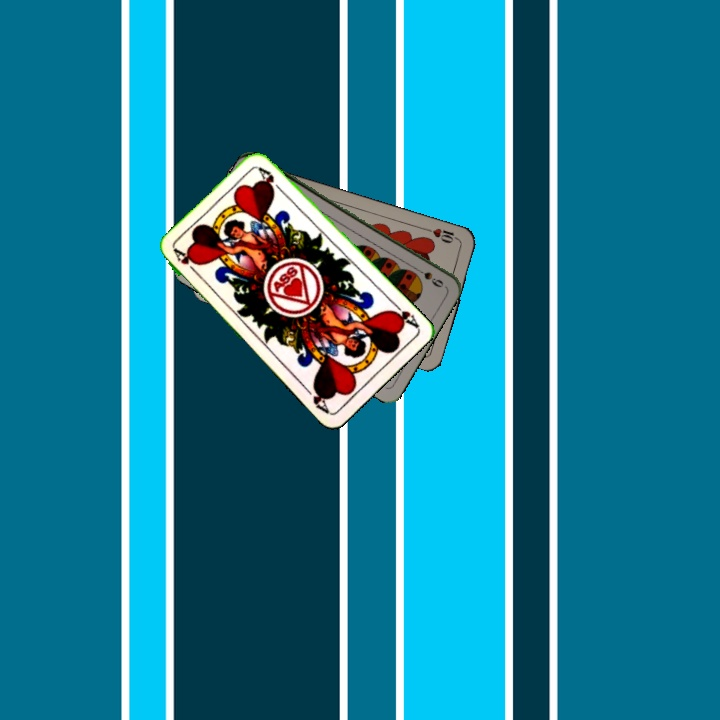H10: (422, 224, 462, 246)
HA: (386, 297, 421, 330), (170, 245, 202, 279)
S9: (410, 263, 446, 290)
